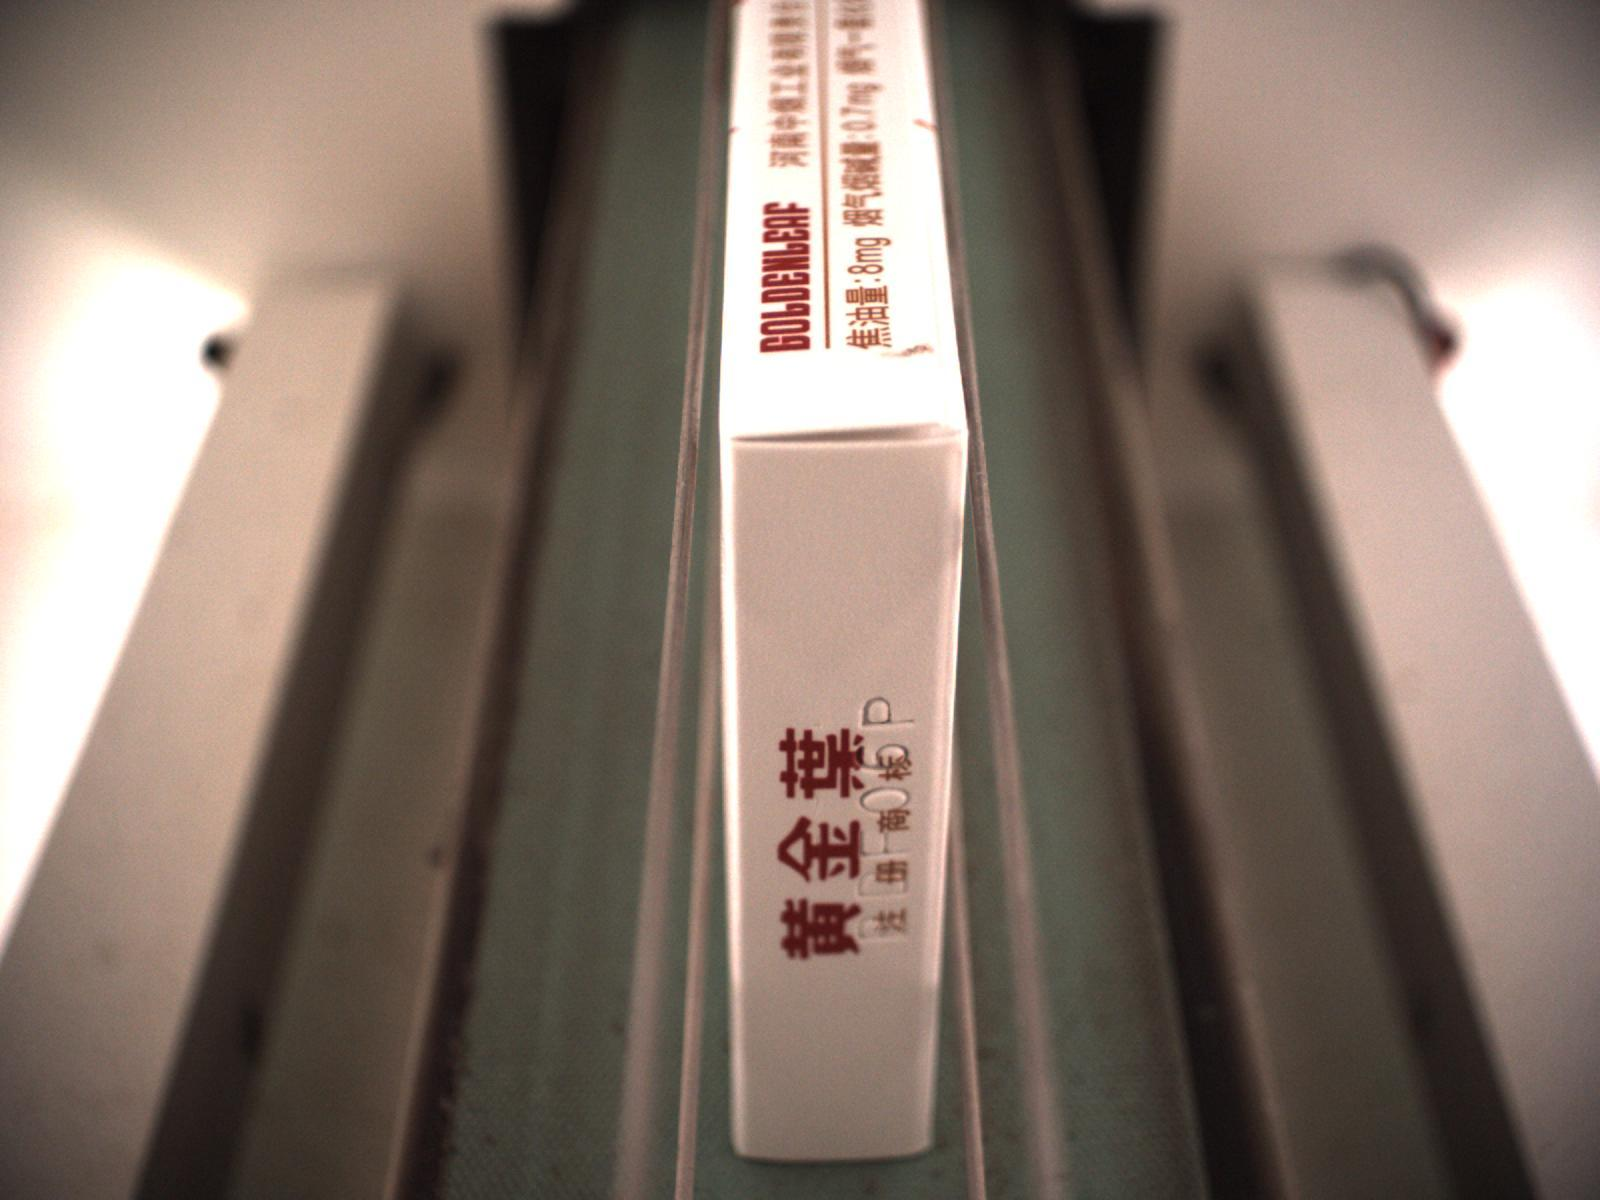bottomUpwarp_upper_3: (723, 415, 968, 453)
gumDirt: (881, 342, 936, 361)
